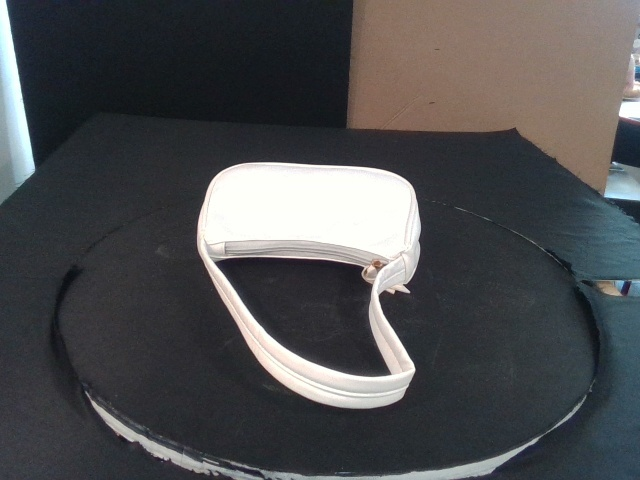bag: (198, 161, 423, 408)
